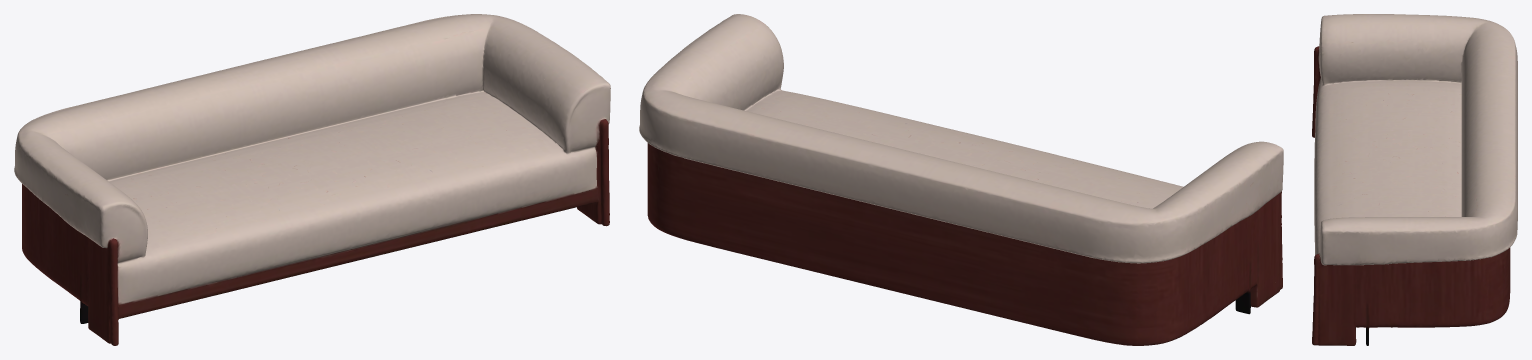
The model's file is accent-chair.glb.
3 renders of one model, left to right at view 1: azimuth 30°, elevation 25°; view 2: azimuth 150°, elevation 25°; view 3: azimuth 270°, elevation 25°, orthographic. The views are drawn at different scales.
Visible parts, largest first — view 1: world; view 2: world; view 3: world.
Boxes of the visible parts, x1=… form: world: x1=14, y1=14, x2=610, y2=345; world: x1=639, y1=14, x2=1283, y2=345; world: x1=1312, y1=14, x2=1517, y2=345.
Bounding box in the file's own units: 1 × 0.2641 × 0.4016.
Materials: 1 (1 with a texture image).
